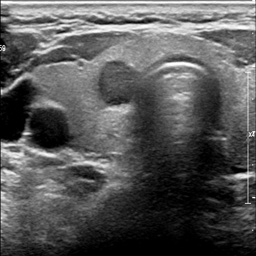mass: (97, 60, 138, 106)
